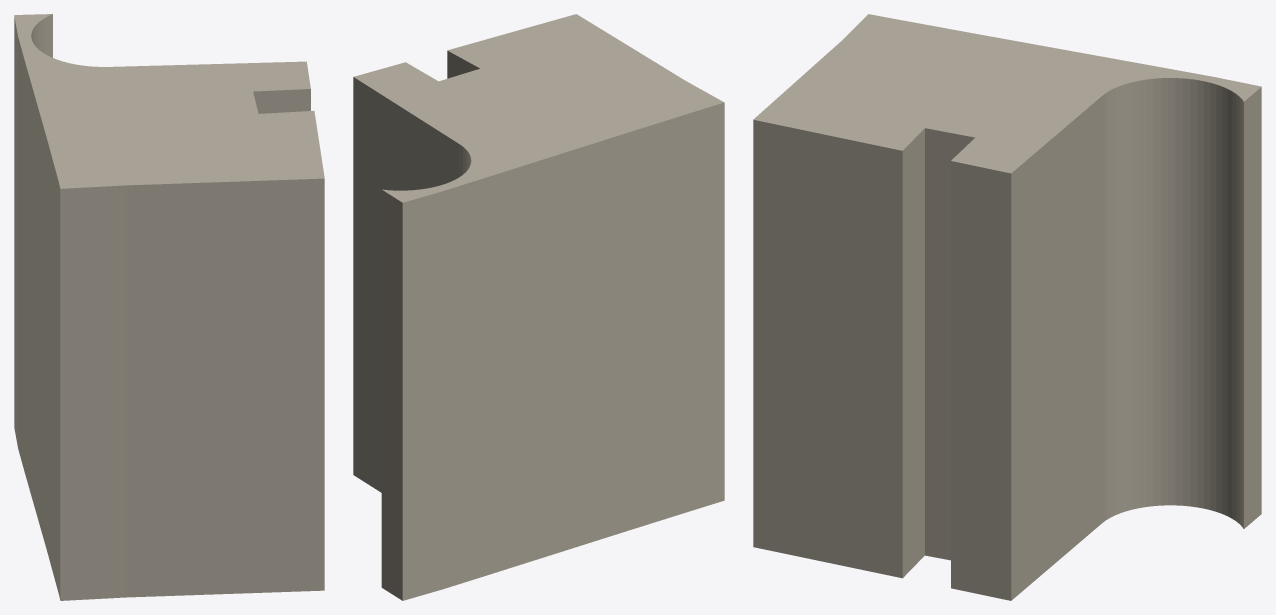
Rendered from birgu_58_25_far.glb.
The picture shows the model from 3 angles, left to right: view 1: azimuth 30°, elevation 25°; view 2: azimuth 150°, elevation 25°; view 3: azimuth 270°, elevation 25°; orthographic projection. The views are drawn at different scales.
Parts seen in each view (by area): view 1: geometry_0; view 2: geometry_0; view 3: geometry_0.
Boxes of the visible parts, box(x1,y1,x2,y2) form: geometry_0: box(14, 14, 324, 600); geometry_0: box(353, 14, 724, 600); geometry_0: box(753, 14, 1261, 600).
Bounding box in the file's own units: 12.41 × 15.5 × 16.72.
